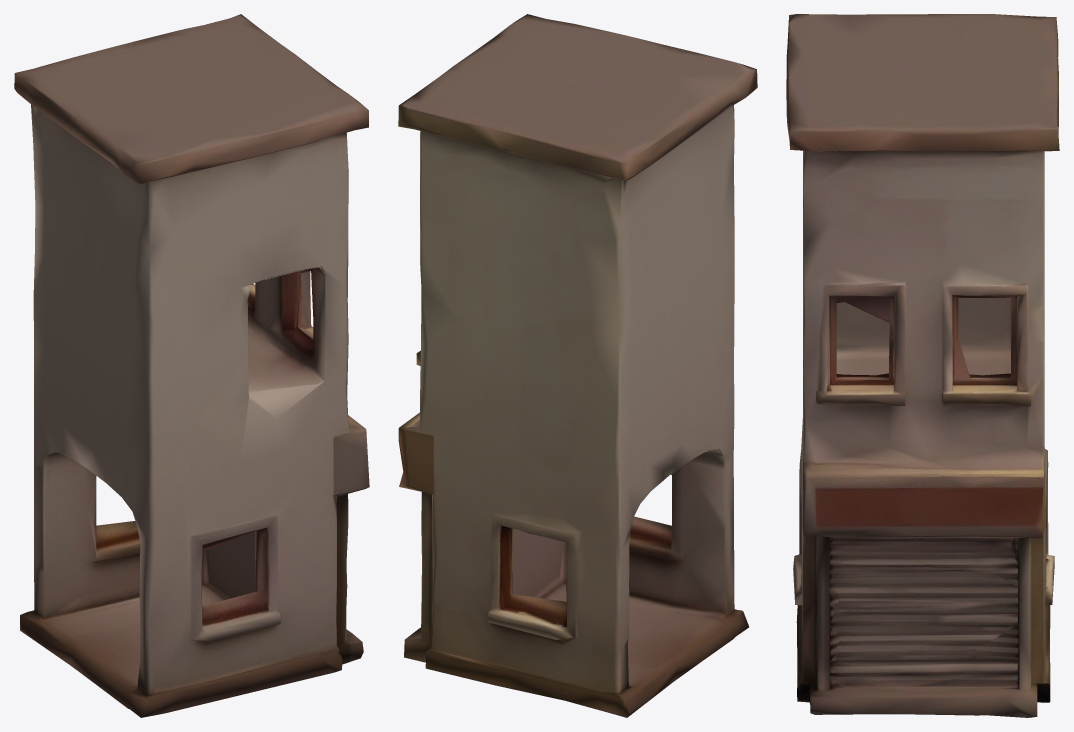
Rendered from corner-shop.glb.
3 renders of one model, left to right at view 1: azimuth 30°, elevation 25°; view 2: azimuth 150°, elevation 25°; view 3: azimuth 270°, elevation 25°, orthographic. The views are drawn at different scales.
Visible parts, largest first — view 1: tripo_node_9ff5cac6-2fcf-4230-9ec6-24888ee55ef9; view 2: tripo_node_9ff5cac6-2fcf-4230-9ec6-24888ee55ef9; view 3: tripo_node_9ff5cac6-2fcf-4230-9ec6-24888ee55ef9.
Boxes of the visible parts, left/top/right/bottom form: tripo_node_9ff5cac6-2fcf-4230-9ec6-24888ee55ef9: left=14, top=14, right=369, bottom=717; tripo_node_9ff5cac6-2fcf-4230-9ec6-24888ee55ef9: left=398, top=14, right=757, bottom=717; tripo_node_9ff5cac6-2fcf-4230-9ec6-24888ee55ef9: left=786, top=14, right=1059, bottom=717.
Size of the model in its own units: 0.4457 by 1 by 0.4226.
Materials: 1 (1 with a texture image).
